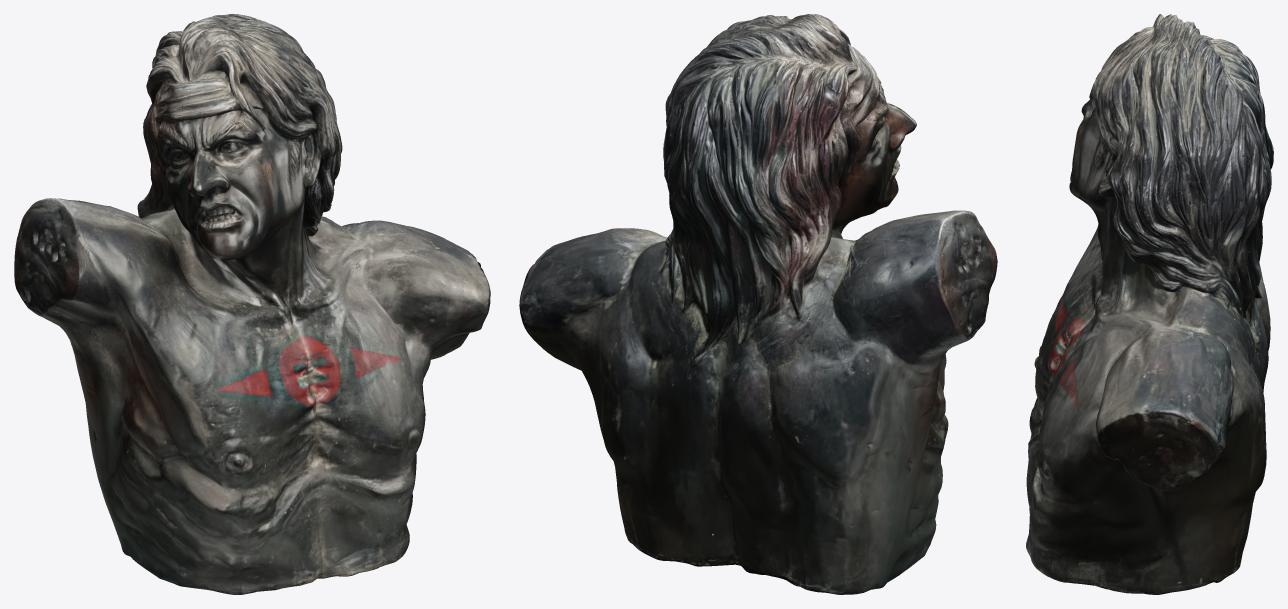
The model's file is hombre.glb.
3 renders of one model, left to right at view 1: azimuth 30°, elevation 25°; view 2: azimuth 150°, elevation 25°; view 3: azimuth 270°, elevation 25°, orthographic. The views are drawn at different scales.
Parts seen in each view (by area): view 1: tripo_node_9100e60e-820d-4276-94c0-4efd8958b663; view 2: tripo_node_9100e60e-820d-4276-94c0-4efd8958b663; view 3: tripo_node_9100e60e-820d-4276-94c0-4efd8958b663.
Boxes of the visible parts, x1,y1,x2,y2 form: tripo_node_9100e60e-820d-4276-94c0-4efd8958b663: [14, 14, 490, 594]; tripo_node_9100e60e-820d-4276-94c0-4efd8958b663: [519, 14, 997, 594]; tripo_node_9100e60e-820d-4276-94c0-4efd8958b663: [1026, 14, 1273, 594].
Size of the model in its own units: 0.842 by 0.9825 by 0.4404.
1 material, 1 textured.
